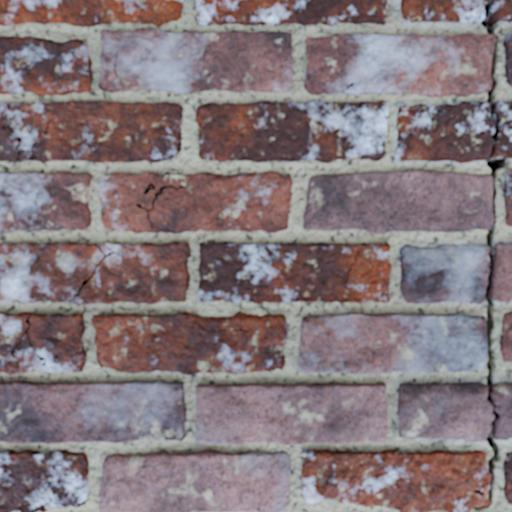brick: (99, 28, 291, 92), (92, 312, 288, 374), (305, 33, 494, 96), (198, 242, 390, 303), (304, 170, 492, 232), (302, 449, 490, 511), (196, 383, 387, 444), (99, 450, 290, 511), (196, 101, 386, 162), (0, 242, 189, 303), (99, 172, 291, 232), (0, 380, 185, 442), (298, 313, 486, 373), (0, 101, 181, 162), (0, 450, 89, 511), (0, 172, 91, 231), (0, 37, 92, 95), (0, 312, 86, 374), (196, 0, 385, 25), (0, 0, 182, 25), (500, 312, 511, 363), (0, 129, 16, 161), (503, 453, 511, 503), (504, 33, 511, 85), (505, 171, 511, 225), (100, 244, 109, 252), (382, 101, 387, 114)
broken_brick: (394, 100, 493, 163), (397, 381, 492, 442), (398, 243, 488, 304), (400, 0, 485, 24), (494, 243, 511, 302), (494, 100, 511, 159), (494, 382, 511, 440), (494, 0, 511, 22)
crack: (464, 0, 510, 511), (74, 243, 123, 298), (8, 313, 46, 366), (26, 120, 51, 160), (0, 117, 22, 162), (345, 244, 359, 283), (342, 101, 363, 125), (377, 101, 387, 119), (339, 82, 355, 92), (98, 83, 105, 91), (400, 509, 410, 511)
